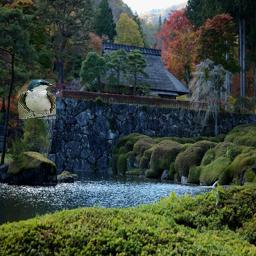Swallow: (18, 79, 56, 119)
